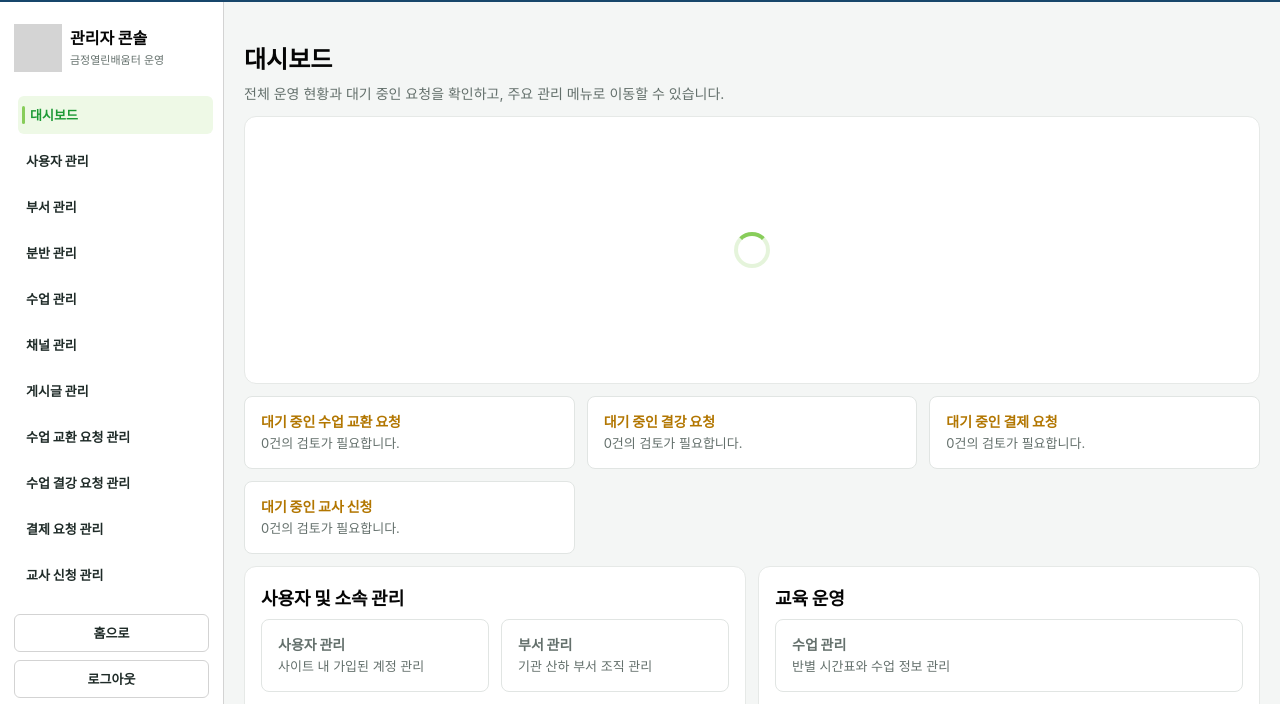
Test: refreshes the current roster after membership removal (204)
This screenshot has width=1280, height=704.
Click the button "분반 관리" at (112, 253), box [14,234,209,272]
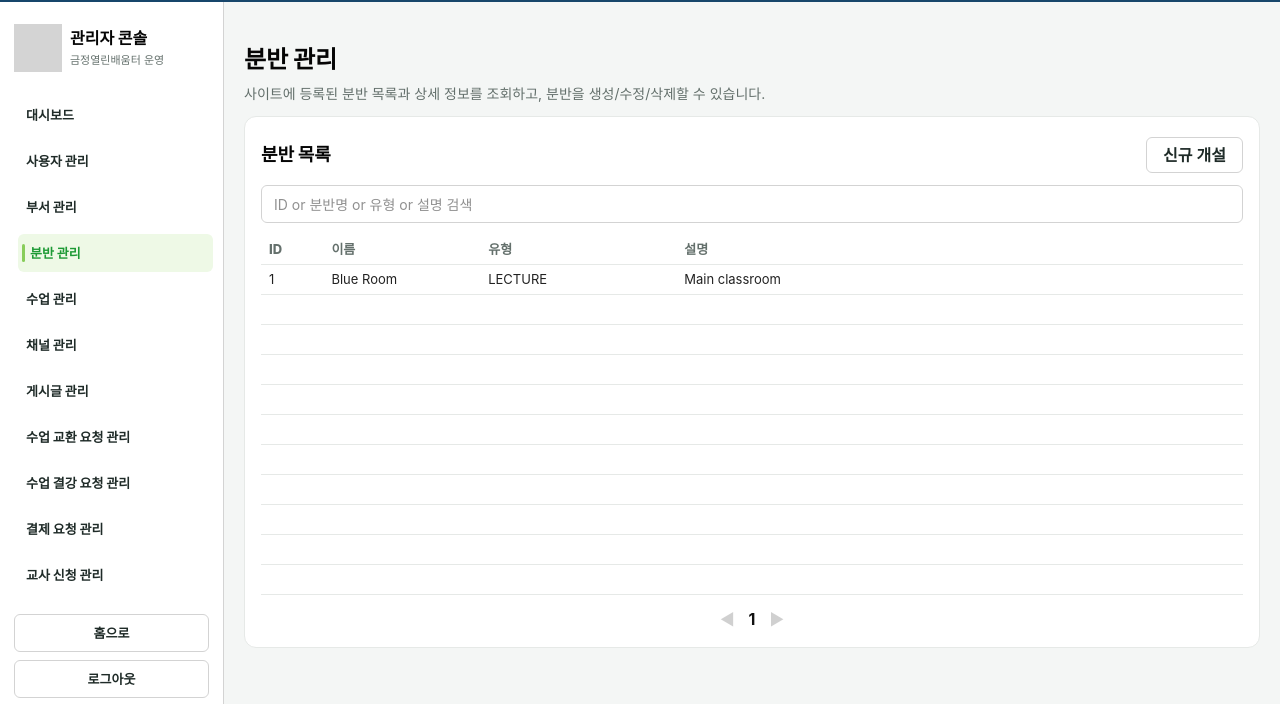
Click the row "1 Blue Room LECTURE Main classroom" at (752, 280), box [261,265,1243,295]
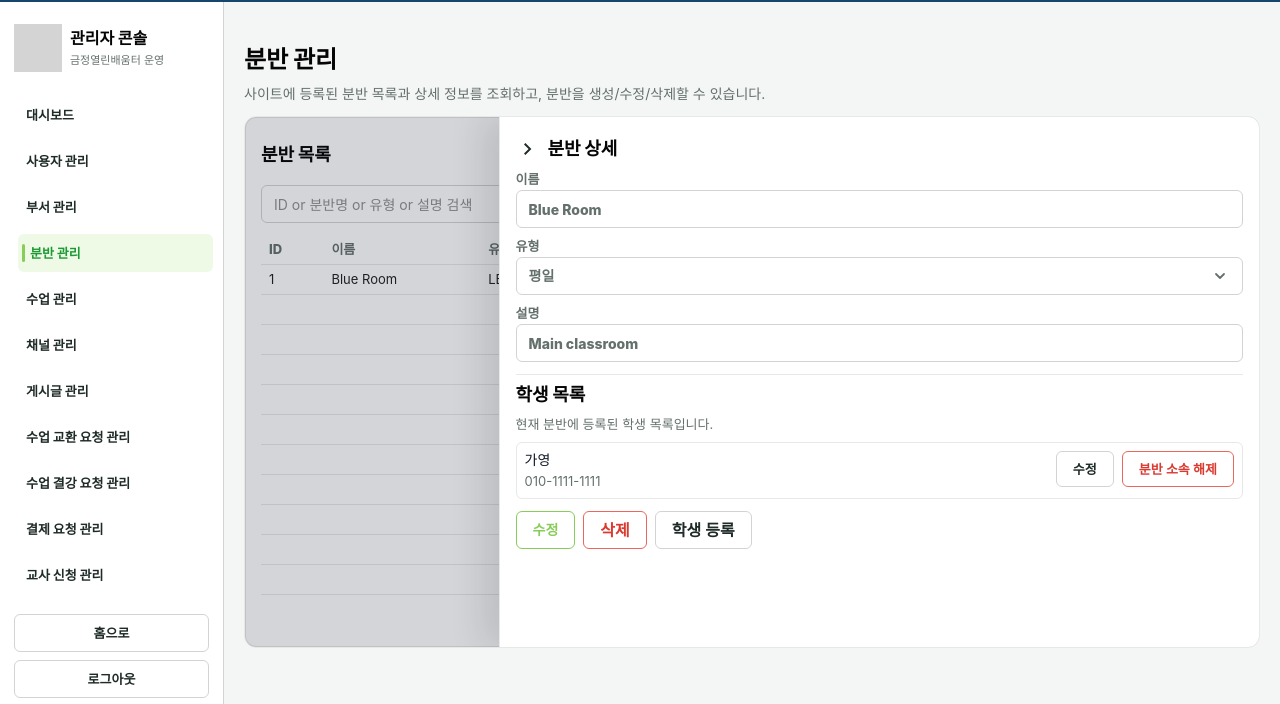
Result: the text "가영" is shown at [524,451,550,468]
Click the button "분반 소속 해제" at (1178, 469), box [1122,451,1234,487]
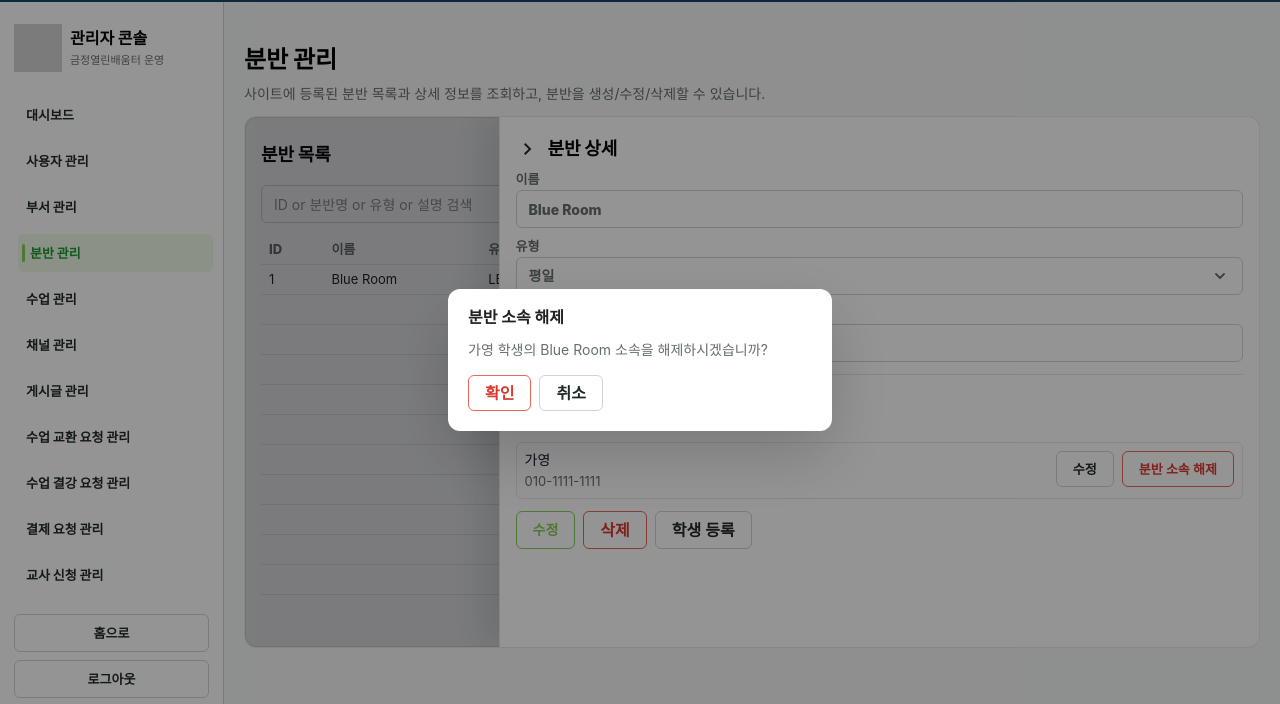
Click the button "확인" at (500, 393), box [468,375,532,411]
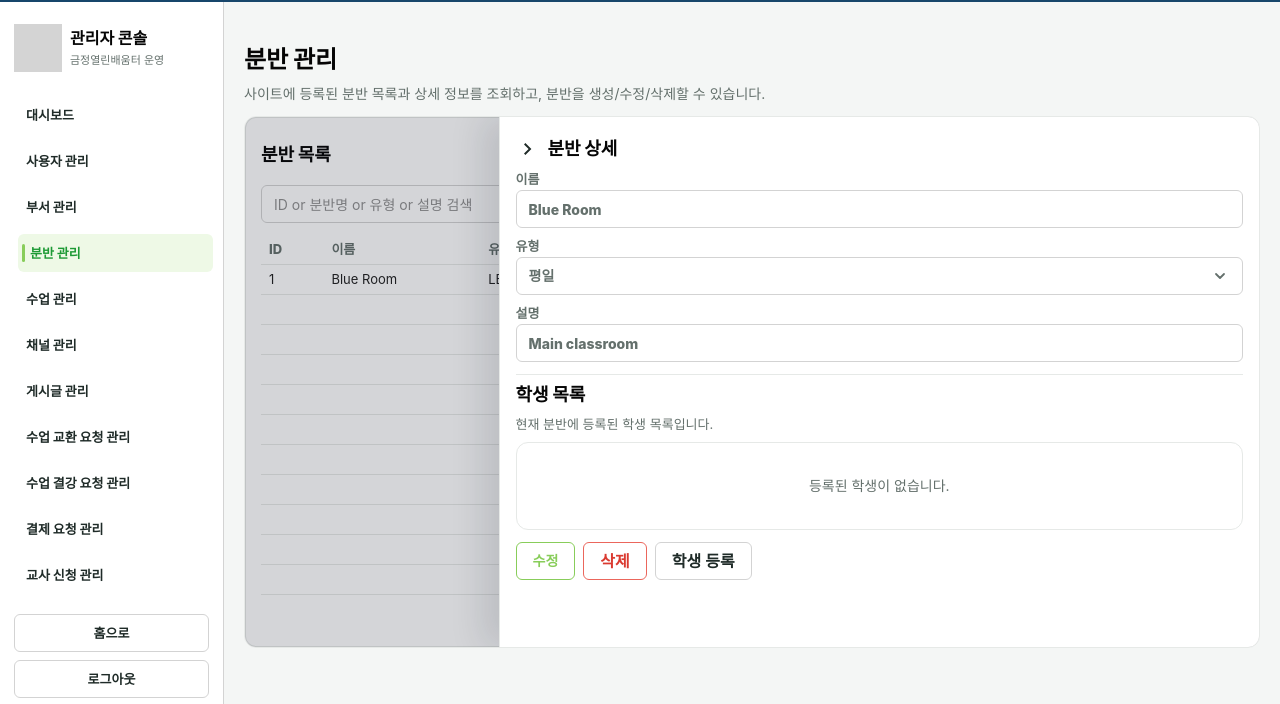
Result: the text "등록된 학생이 없습니다." is shown at [516,442,1243,530]
Click the button "학생 등록" at (703, 561), box [655,542,752,580]
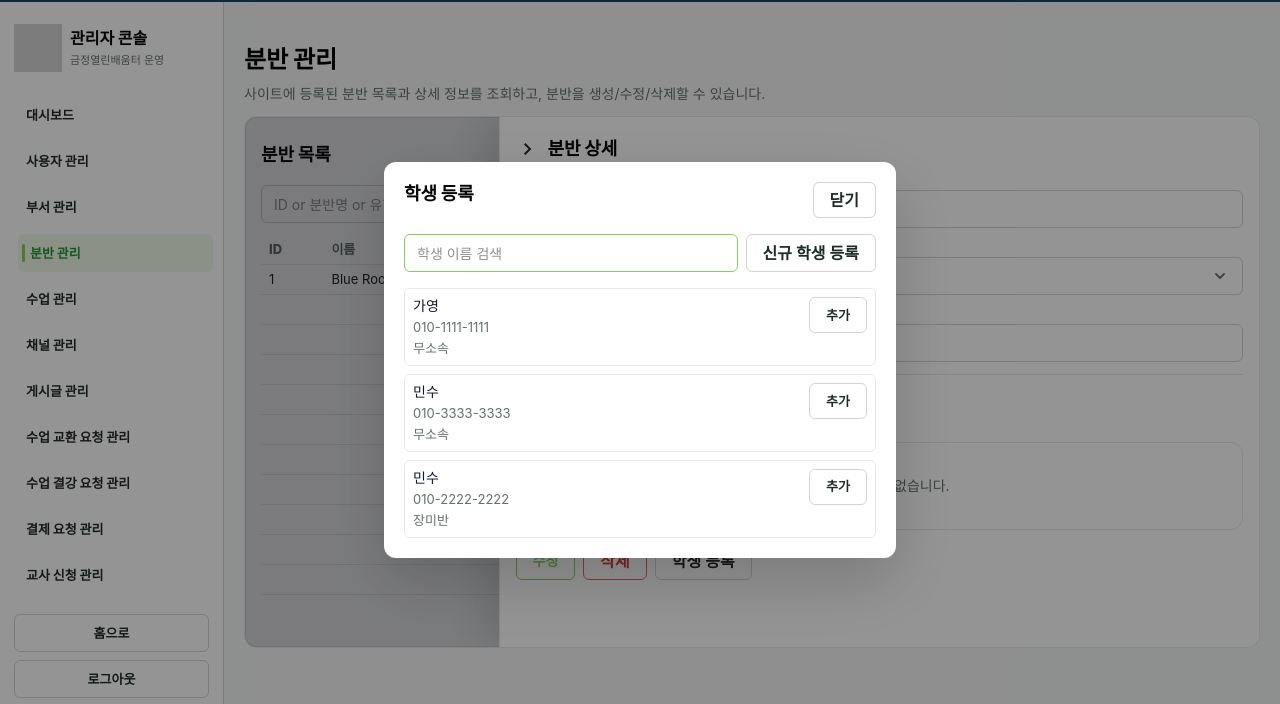
Result: the dialog shows "010-1111-1111" at [413,319,489,335]
